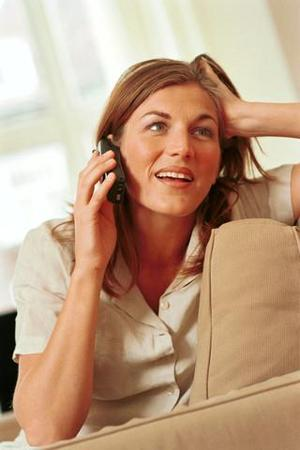person: (12, 53, 300, 448)
